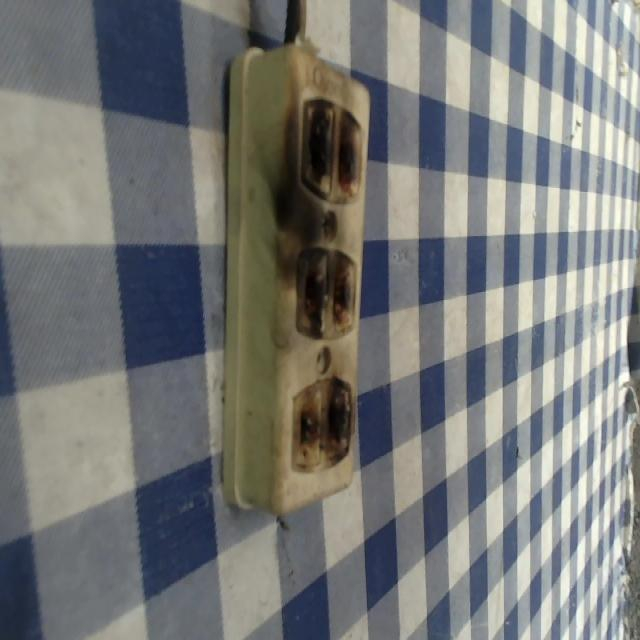-: (295, 82, 363, 202), (288, 373, 352, 471), (293, 243, 356, 337)
